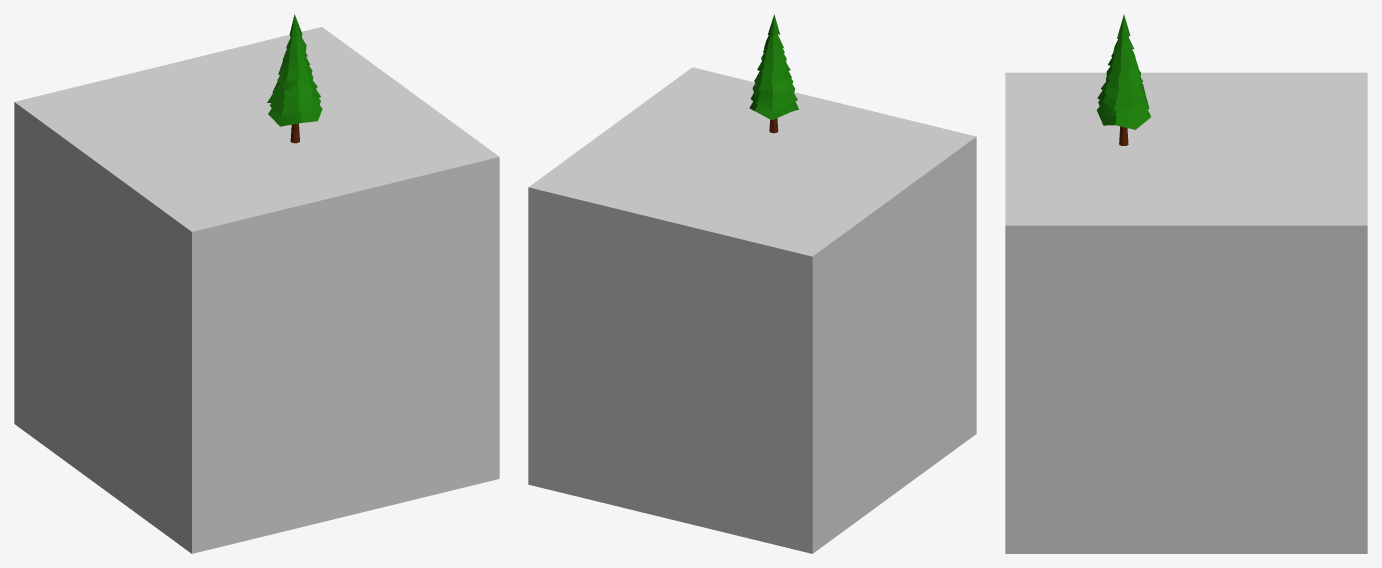
File: SlowGrowingTree.fbx
3 renders of one model, left to right at view 1: azimuth 30°, elevation 25°; view 2: azimuth 150°, elevation 25°; view 3: azimuth 270°, elevation 25°, orthographic. The views are drawn at different scales.
Parts seen in each view (by area): view 1: Cube, Ramas, Ramas.016, Ramas.015; view 2: Cube, Ramas.016, Ramas, Ramas.015; view 3: Cube, Ramas, Ramas.016, Ramas.015.
Boxes of the visible parts, bbox=[...] form: Cube: bbox=[14, 27, 499, 553]; Ramas: bbox=[268, 98, 322, 126]; Ramas.016: bbox=[267, 80, 320, 112]; Ramas.015: bbox=[277, 65, 313, 90]; Cube: bbox=[528, 67, 976, 553]; Ramas.016: bbox=[752, 78, 794, 102]; Ramas: bbox=[749, 34, 798, 120]; Ramas.015: bbox=[756, 61, 791, 85]; Cube: bbox=[1005, 72, 1367, 553]; Ramas: bbox=[1096, 35, 1150, 129]; Ramas.016: bbox=[1097, 82, 1148, 111]; Ramas.015: bbox=[1105, 66, 1143, 91].
Bounding box in the file's own units: 200 × 285 × 200.
